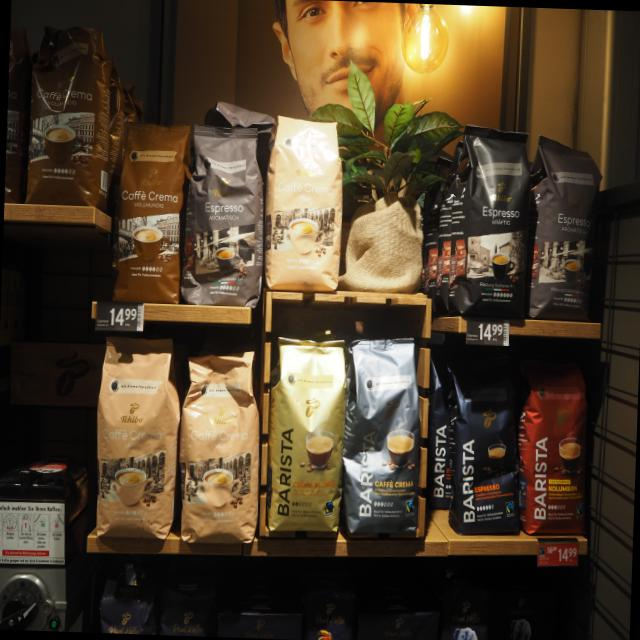Barista CB: (262, 333, 350, 534)
Barista CC: (336, 333, 424, 538)
Barista Espresso: (445, 352, 529, 541)
Barista Kolumbien: (513, 353, 591, 539)
CC Mild: (90, 333, 184, 542), (174, 344, 265, 546), (258, 112, 345, 294)
CC Vollmundig 36 Pads: (20, 18, 116, 210), (104, 119, 194, 308)
Espresso Aromatisch: (178, 121, 268, 312), (525, 133, 606, 324)
Espresso Kraftig: (445, 118, 535, 320)
